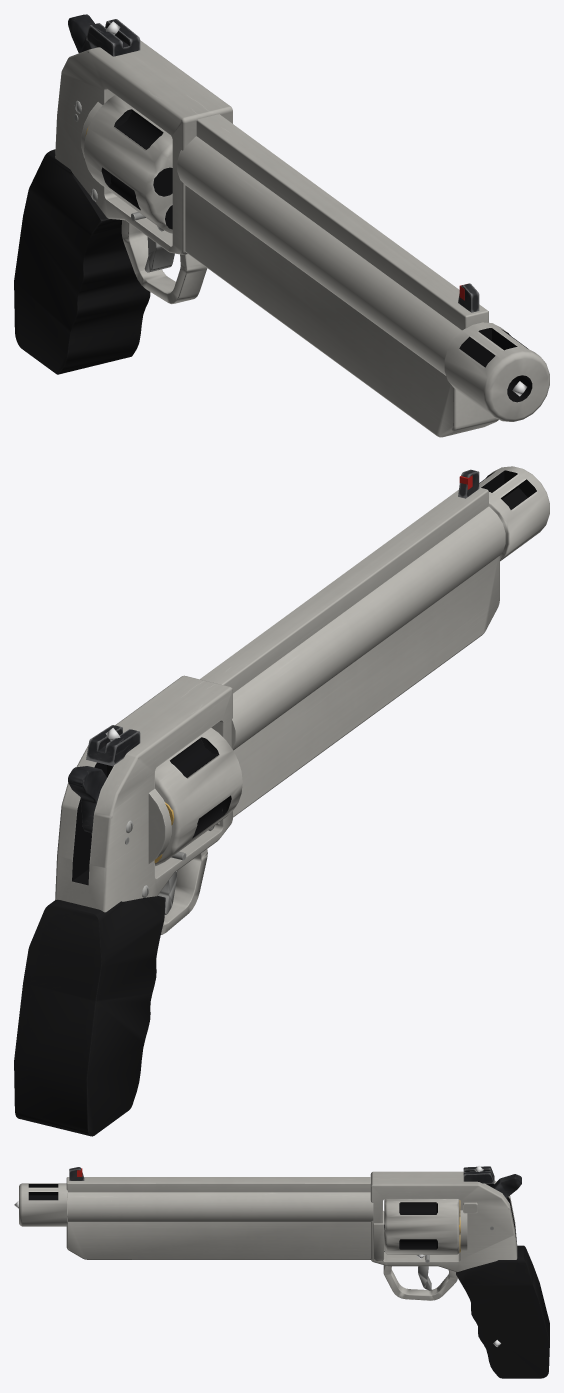
Rendered from HeavyPistol_B_SW500.fbx.
3 views of the same model, one above another, from view 1: azimuth 30°, elevation 25°; view 2: azimuth 150°, elevation 25°; view 3: azimuth 270°, elevation 25° (orthographic). The views are drawn at different scales.
Parts seen in each view (by area): view 1: Handle, Cylinder, Hammer; view 2: Handle, Cylinder, Hammer; view 3: Handle, Cylinder, Hammer.
Boxes of the visible parts, bbox=[...] form: Handle: bbox=[14, 19, 549, 437]; Cylinder: bbox=[84, 95, 172, 233]; Hammer: bbox=[68, 14, 95, 52]; Handle: bbox=[14, 466, 549, 1136]; Cylinder: bbox=[154, 727, 242, 866]; Hammer: bbox=[68, 766, 106, 832]; Handle: bbox=[19, 1166, 549, 1378]; Cylinder: bbox=[373, 1199, 460, 1261]; Hammer: bbox=[492, 1174, 521, 1199].
Bounding box in the file's own units: 0.1559 × 0.5484 × 1.31.
2 materials, 1 textured.
